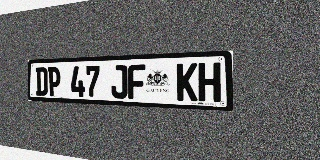4: (71, 66, 85, 97)
7: (85, 66, 100, 98)
D: (36, 67, 48, 96)
F: (128, 64, 145, 99)
H: (198, 62, 221, 102)
J: (111, 65, 127, 99)
K: (177, 63, 197, 101)
P: (48, 67, 61, 96)
